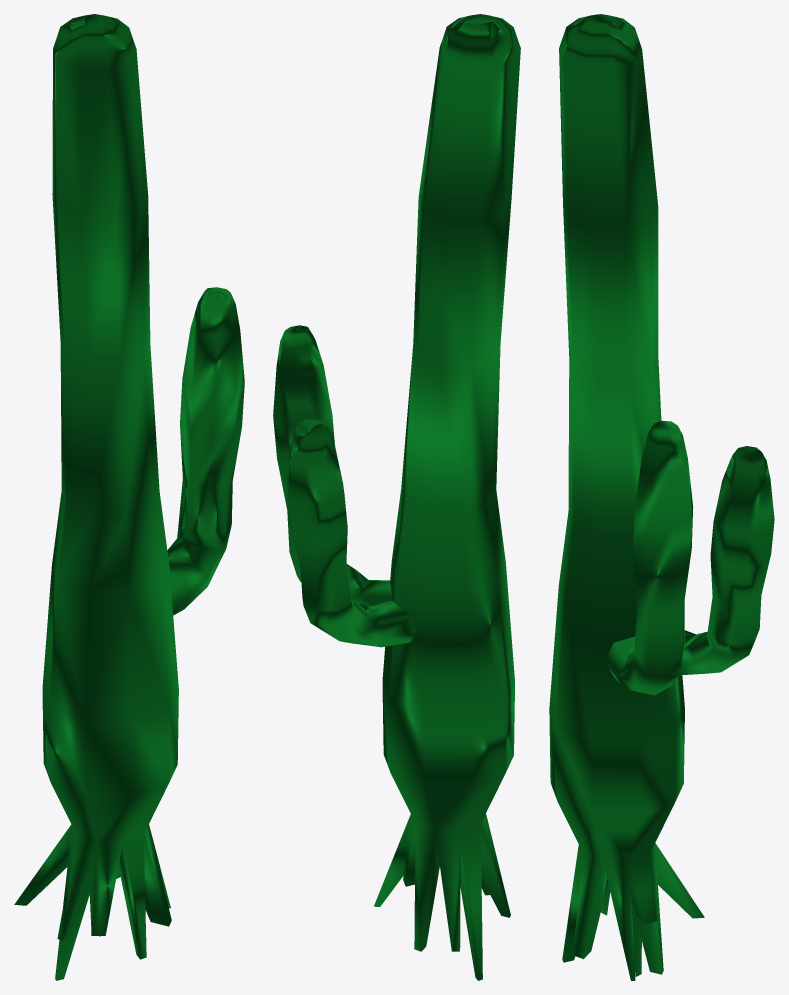
File: SeguaroCactusLarge1_LOD0.obj
The picture shows the model from 3 angles, left to right: view 1: azimuth 30°, elevation 25°; view 2: azimuth 150°, elevation 25°; view 3: azimuth 270°, elevation 25°; orthographic projection. The views are drawn at different scales.
Parts seen in each view (by area): view 1: SeguaroCactusLarge1_LOD0; view 2: SeguaroCactusLarge1_LOD0; view 3: SeguaroCactusLarge1_LOD0.
Boxes of the visible parts, x1,y1,x2,y2 form: SeguaroCactusLarge1_LOD0: (14,14,244,980); SeguaroCactusLarge1_LOD0: (273,14,520,980); SeguaroCactusLarge1_LOD0: (549,14,774,980).
Size of the model in its own units: 117 by 509 by 108.
